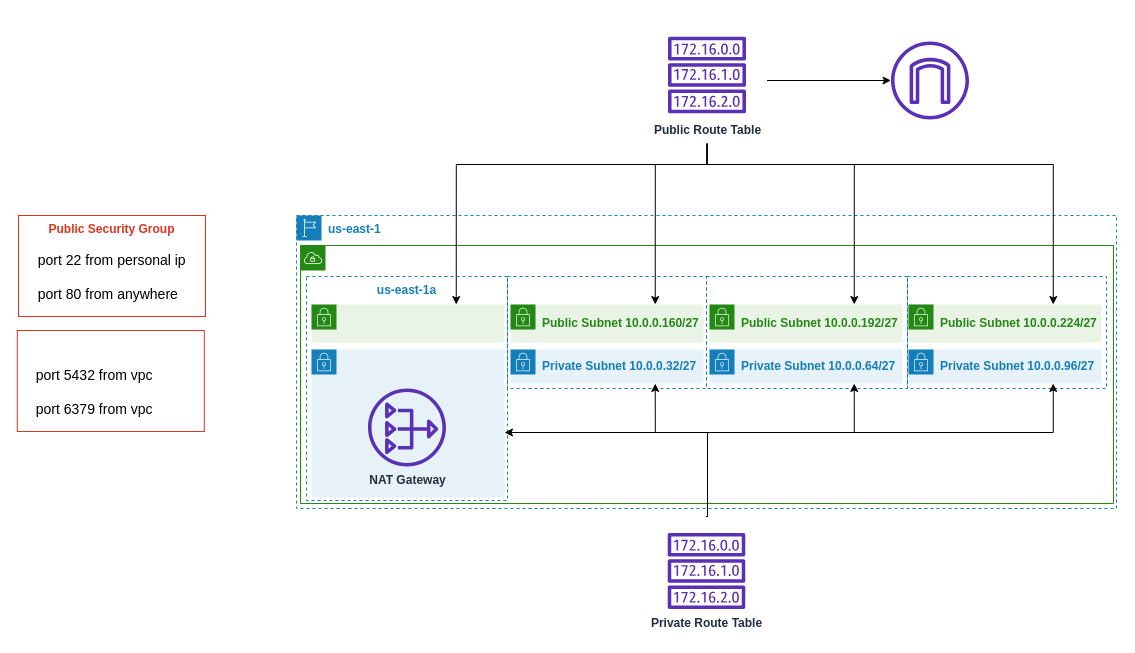
Image size: 1135x653. Some labels were removed from this diagram. Here are the shapes that lost their labels. From the top down, the box of each, then its label:
(890, 41, 968, 119): Internet Gateway
(310, 304, 504, 342): Public Subnet 10.0.0.128/27
(506, 276, 706, 388): us-east-1b
(706, 276, 908, 388): us-east-1c
(906, 276, 1106, 388): us-east-1d
(16, 330, 204, 432): Private Security Group
(300, 244, 1114, 504): VPC 10.0.0.0/24
(310, 348, 504, 498): Private Subnet 10.0.0.0/27
